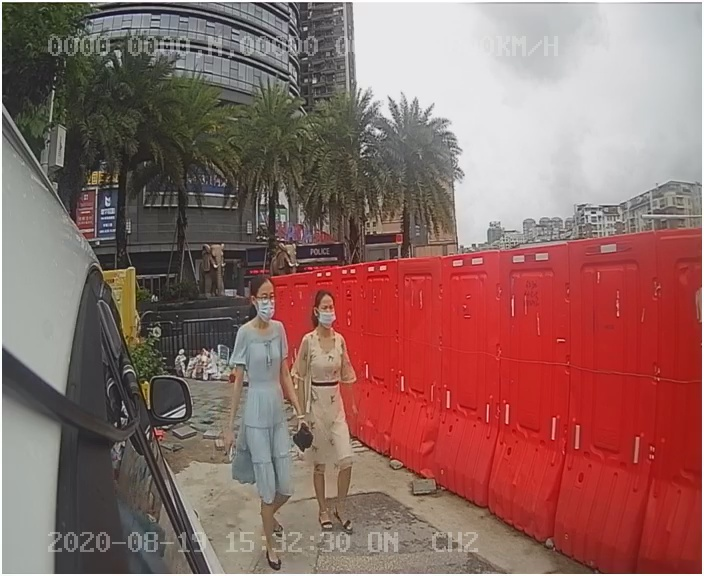person: (215, 273, 317, 570), (295, 289, 391, 531)
